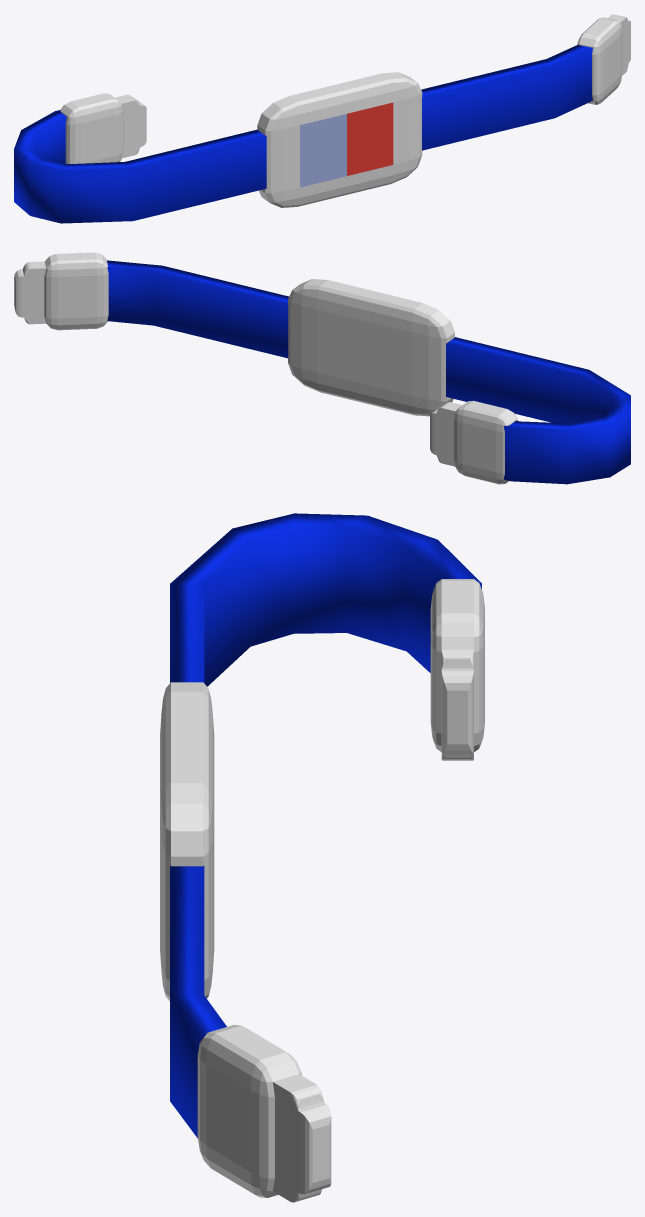
Rendered from Tourniquet.fbx.
3 views of the same model, one above another, from view 1: azimuth 30°, elevation 25°; view 2: azimuth 150°, elevation 25°; view 3: azimuth 270°, elevation 25° (orthographic). The views are drawn at different scales.
Parts seen in each view (by area): view 1: Cube.002; view 2: Cube.002; view 3: Cube.002.
Part boxes in pixels (box(x1,y1,x2,y2)): Cube.002: box(14, 14, 630, 223); Cube.002: box(14, 252, 630, 484); Cube.002: box(160, 513, 484, 1202).
Bounding box in the file's own units: 632 × 105 × 147.
